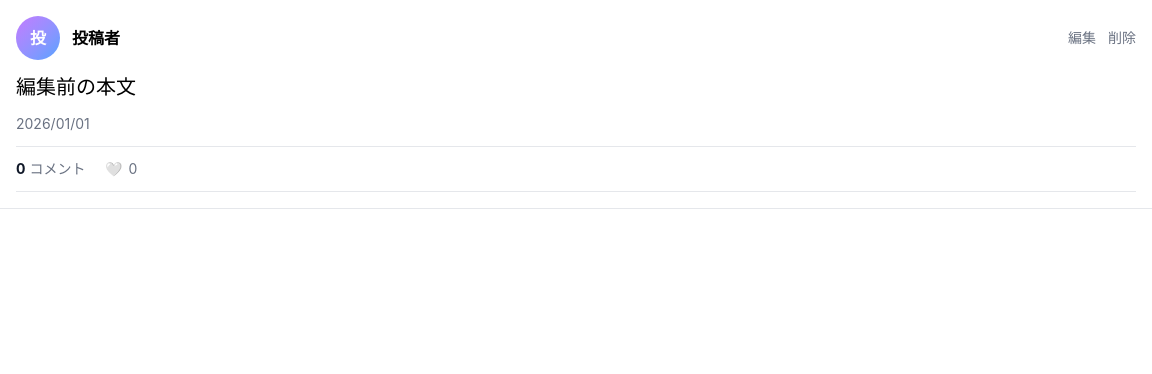
Test case: PostDetailCard › 編集を押すと入力欄が開き本文が入る
Click the button "編集": (1082, 38) [1068,28,1096,48]
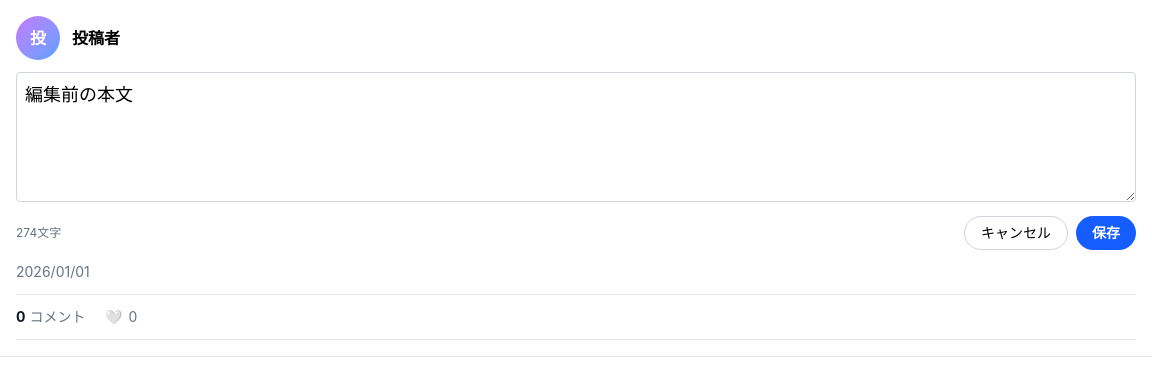
Now the text box holds "編集前の本文", box [16,72,1136,202]
